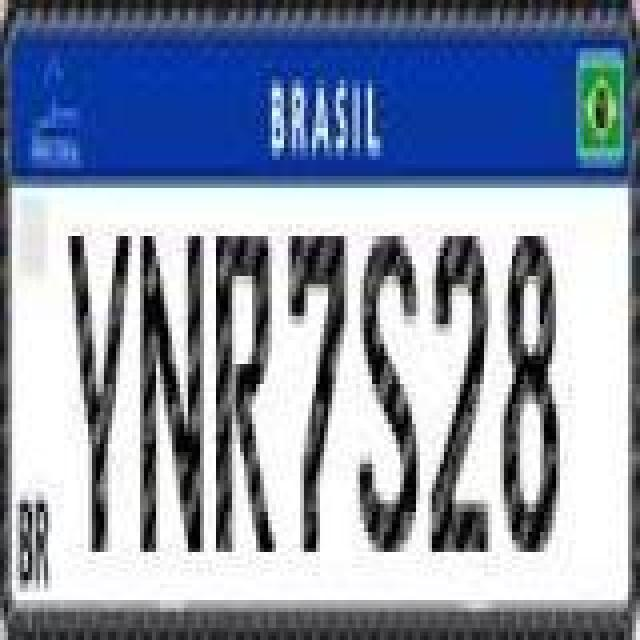2: (428, 226, 492, 550)
7: (284, 224, 348, 560)
8: (496, 226, 560, 550)
N: (138, 224, 206, 560)
R: (216, 224, 280, 560)
S: (356, 224, 420, 560)
Y: (66, 230, 134, 554)
